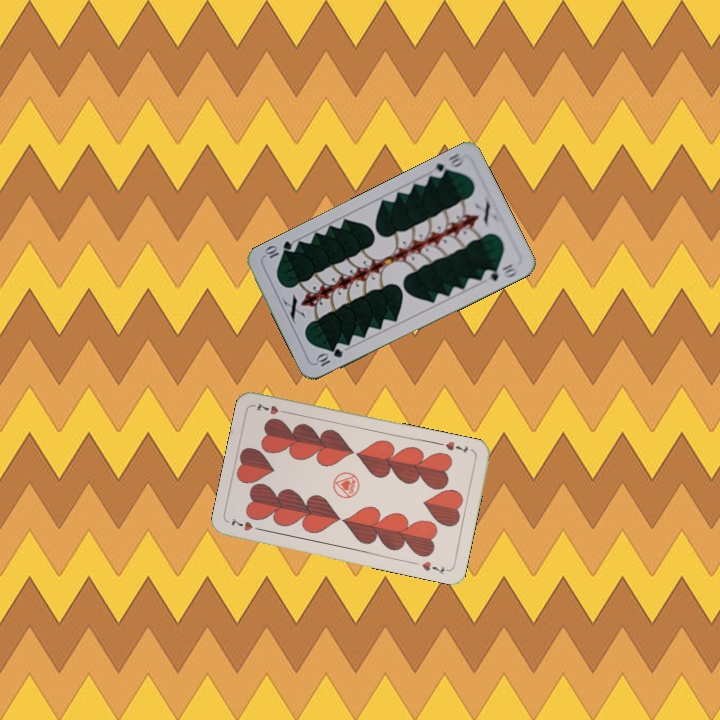G10: (430, 149, 467, 181), (312, 344, 345, 369)
H7: (225, 514, 266, 534), (441, 437, 471, 456)
